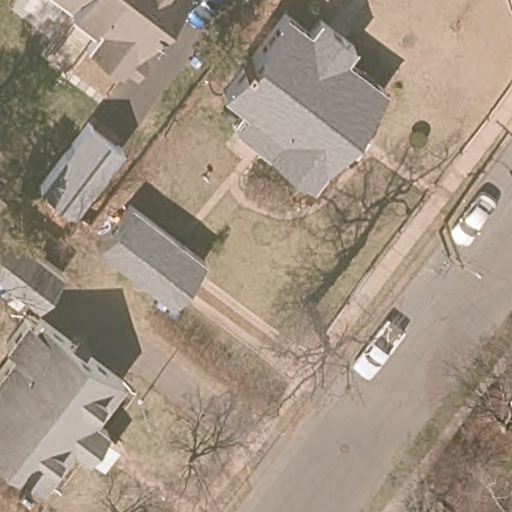DT: (435, 231, 484, 281)
